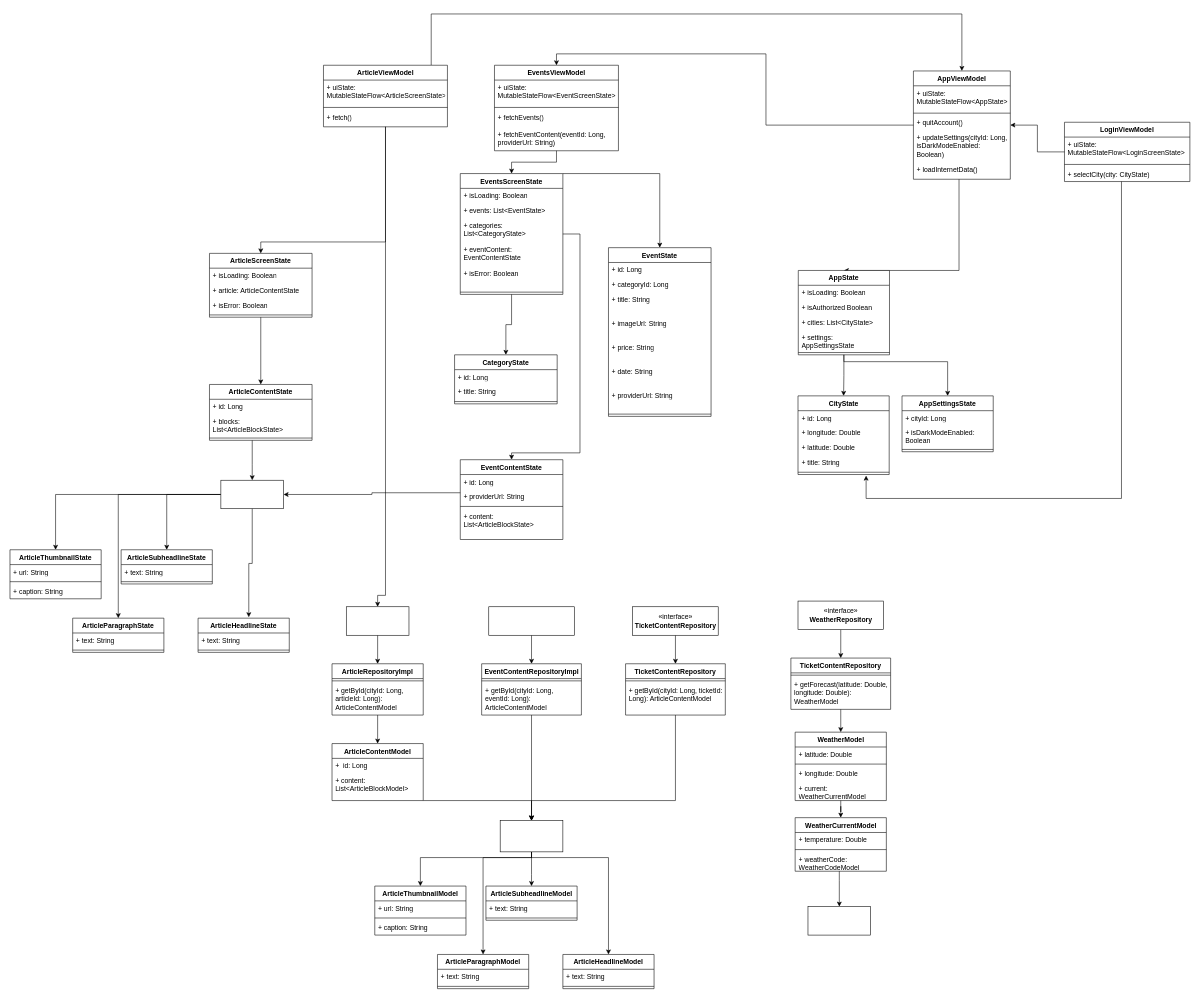
Image size: 1200x999. Some labels were removed from this diagram. Each missing label, with the centre of its shape:
"WeatherCodeModel" goes at point 839,920.
"«interface» ArticleBlockModel" goes at point 531,836.
"«interface» ArticleBlockState" goes at point 252,494.
"«interface» ArticleRepository" goes at point 377,620.
"«interface» EventContentRepository" goes at point 531,620.
